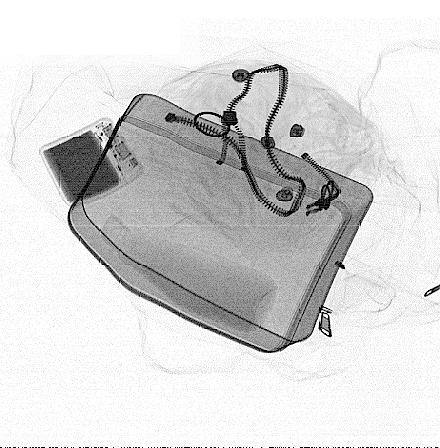Powerbank: (37, 116, 143, 208)
